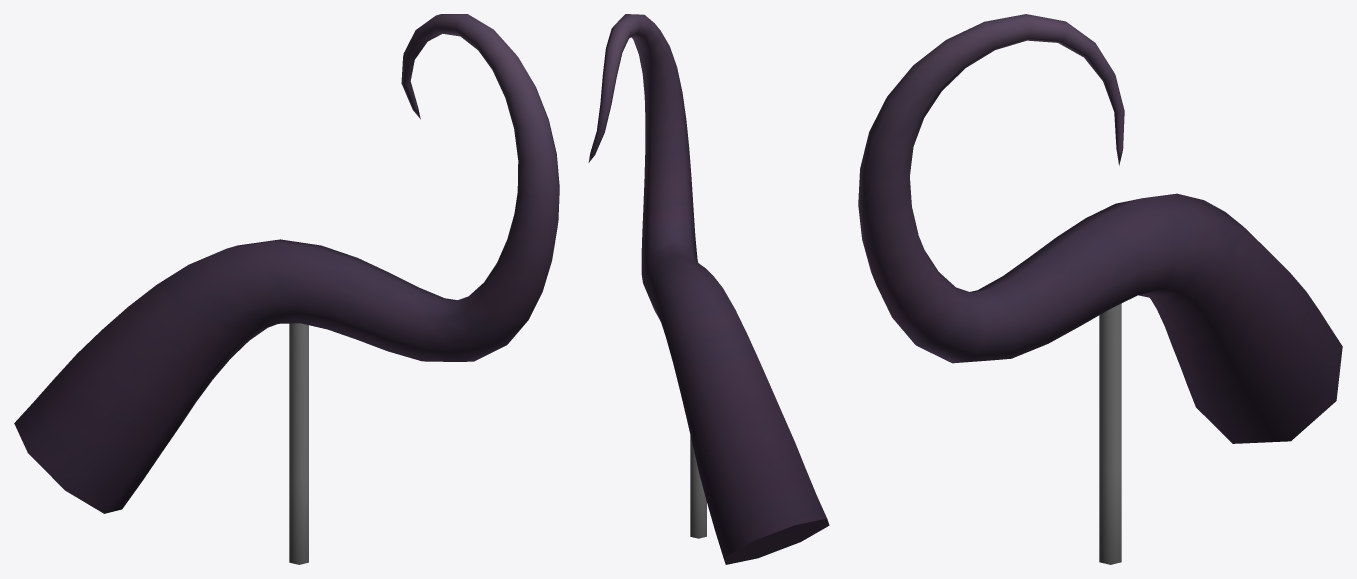
Rendered from OBJ_DemonHorn.fbx.
3 renders of one model, left to right at view 1: azimuth 30°, elevation 25°; view 2: azimuth 150°, elevation 25°; view 3: azimuth 270°, elevation 25°, orthographic. The views are drawn at different scales.
Visible parts, largest first — view 1: OBJ_DemonHorn; view 2: OBJ_DemonHorn; view 3: OBJ_DemonHorn.
Part boxes in pixels (x1,y1,x2,y2): OBJ_DemonHorn: (14, 14, 559, 564); OBJ_DemonHorn: (588, 14, 829, 564); OBJ_DemonHorn: (858, 14, 1342, 564).
Bounding box in the file's own units: 61.89 × 86.36 × 61.68.
